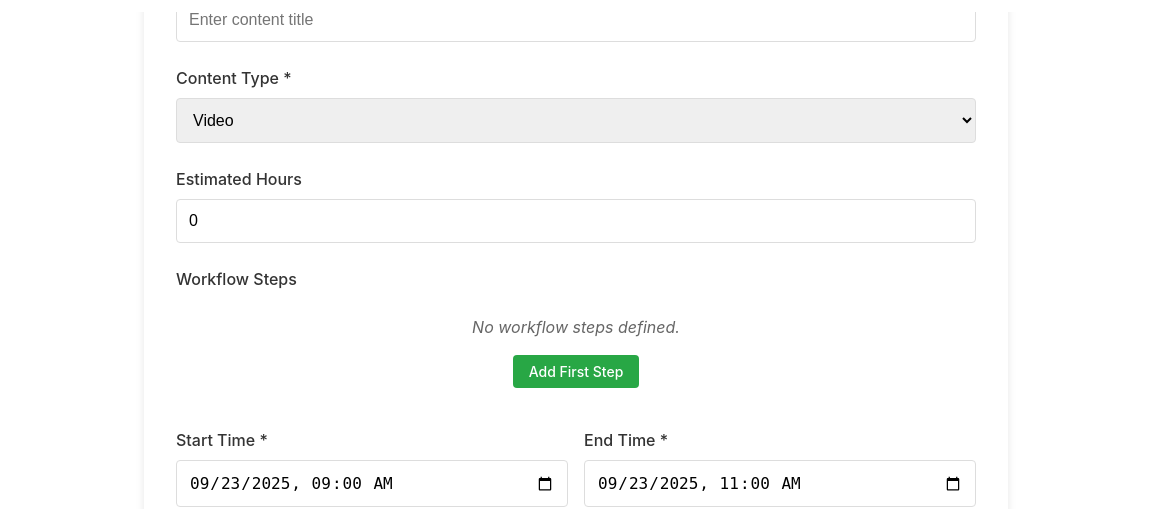
it: ContentCreationForm › allows adding and removing workflow steps
(page scrolled)
Expected: the text "No workflow steps defined." is shown, 472,317 -> 680,337
# Add first step
Click the button "Add First Step" at (576, 372), box 513,355 -> 639,388
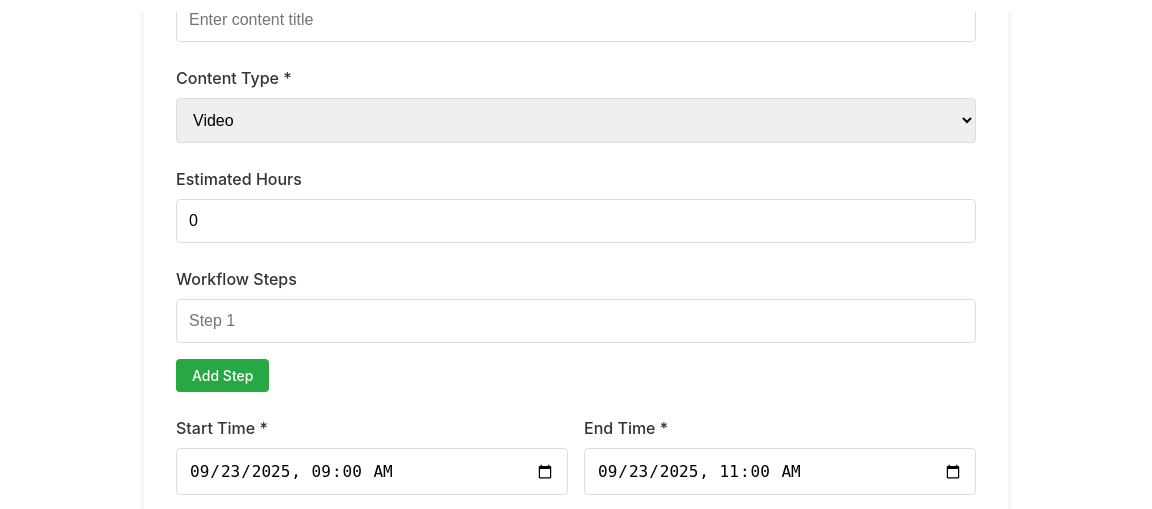
Type "First step" into the field with placeholder "Step 1" at (576, 321), box 176,299 -> 976,343
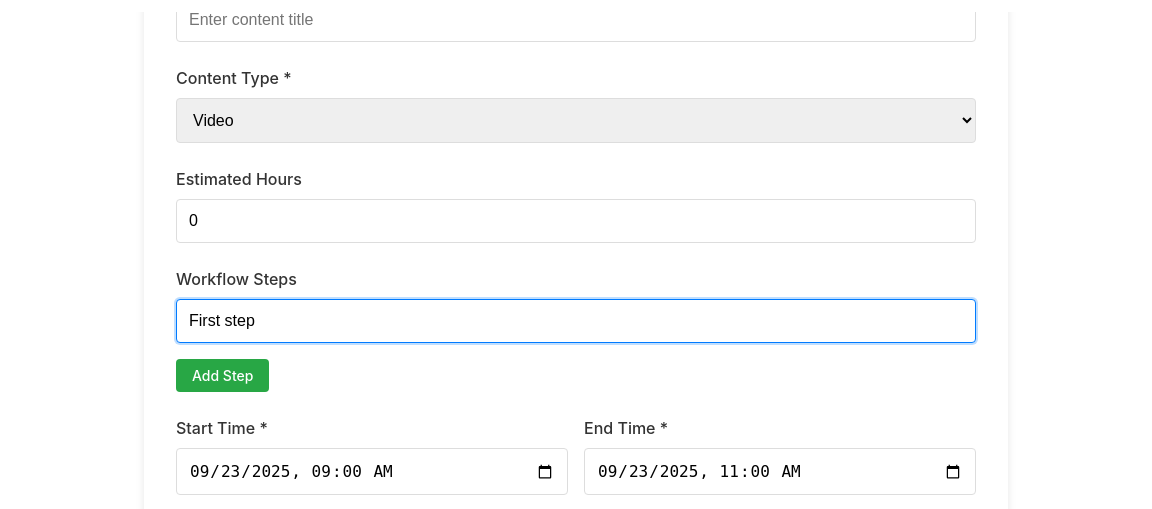
# Add another step
Click the button "Add Step" at (223, 376), box 176,359 -> 269,392
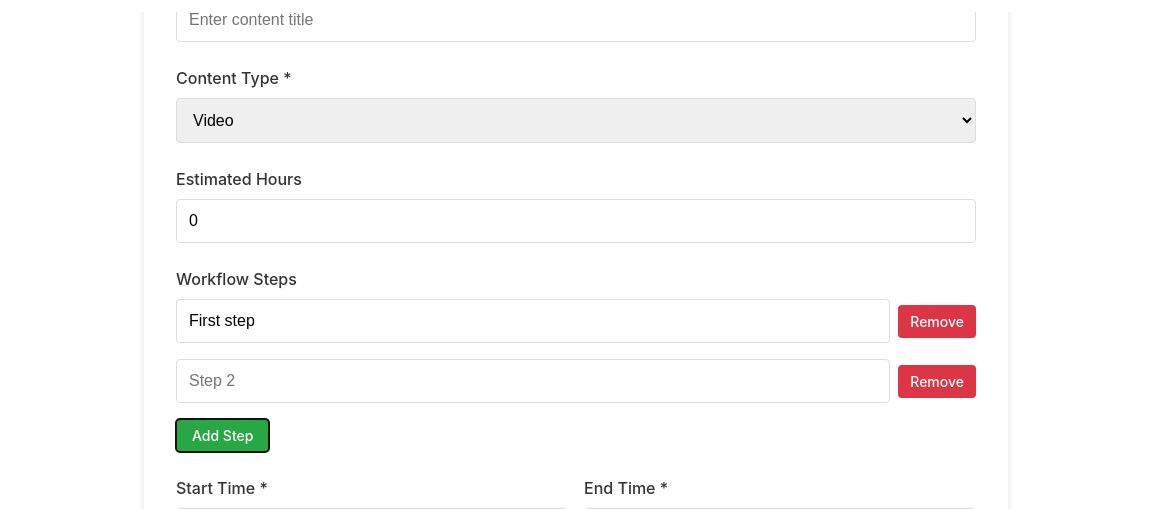
Expected: the number of fields with placeholder "Step 1" is 2
Type "Second step" into the field with placeholder "Step 2" at (533, 381), box 176,359 -> 890,403
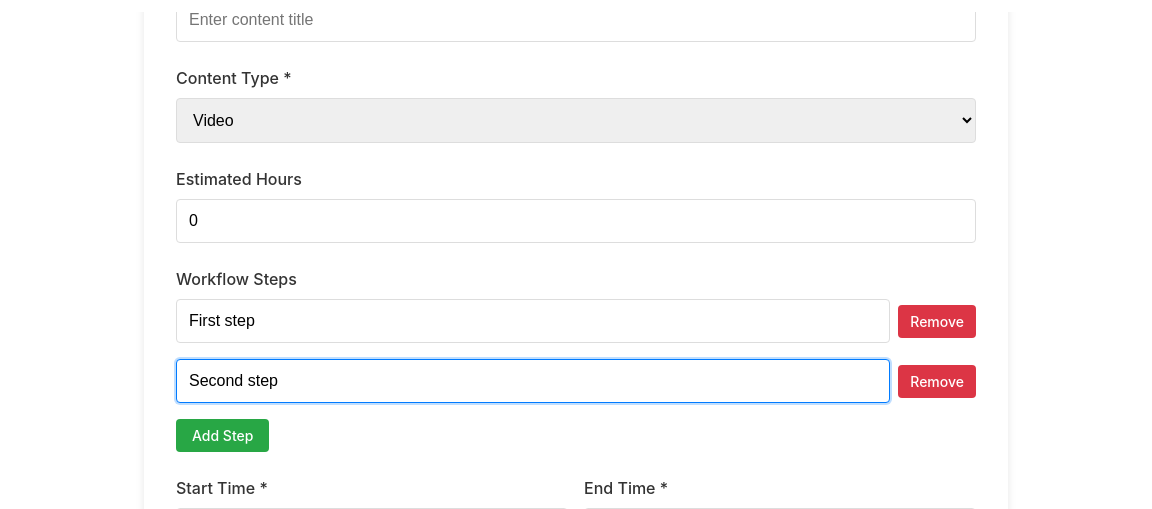
# Remove first step
Click the 1st button "Remove" at (937, 321), box 898,305 -> 976,338
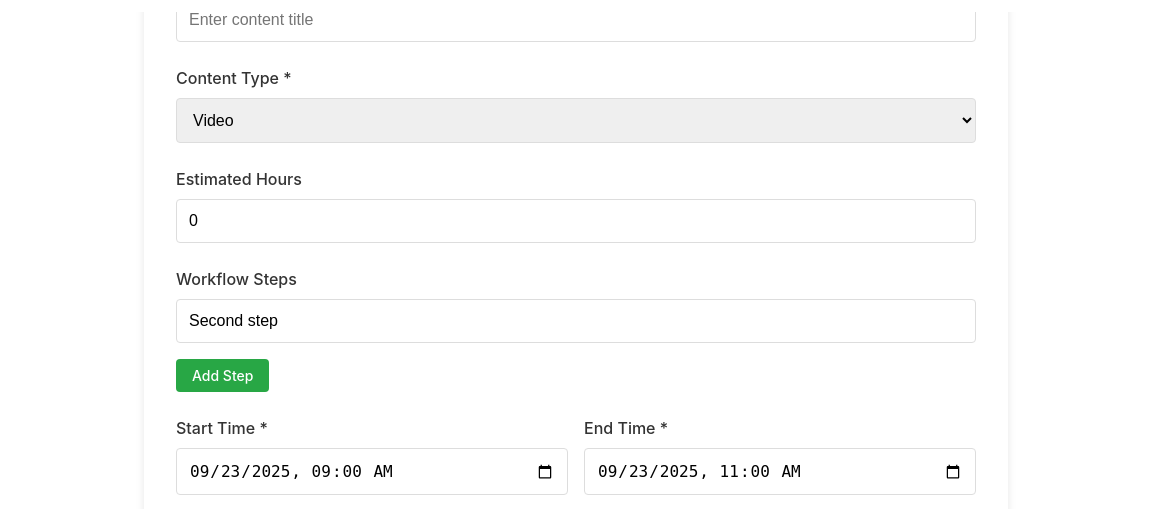
Expected: the number of fields with placeholder "Step 1" is 1, 176,299 -> 976,343
